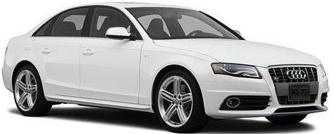front_view: (200, 55, 331, 120)
headlight: (210, 60, 262, 82)
side_glass: (33, 7, 137, 39)
